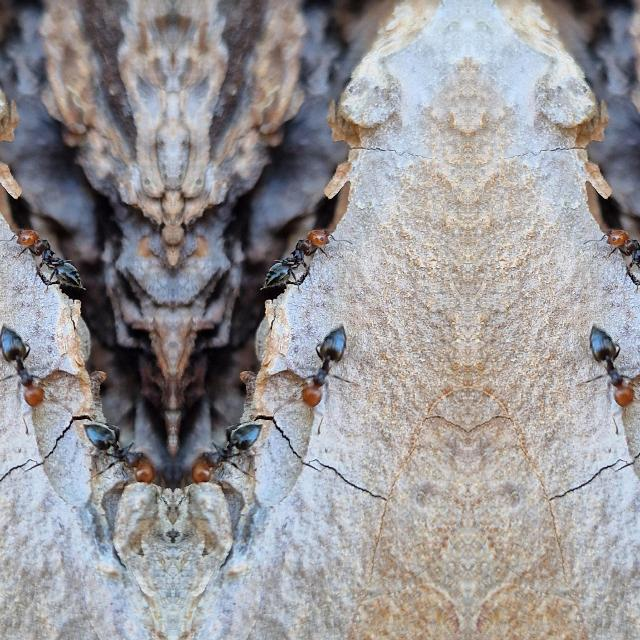Crematogaster: (190, 412, 274, 488), (70, 412, 154, 488), (259, 218, 331, 298), (13, 218, 85, 298), (299, 320, 357, 416), (578, 320, 636, 416), (0, 320, 45, 416), (604, 218, 640, 297)
